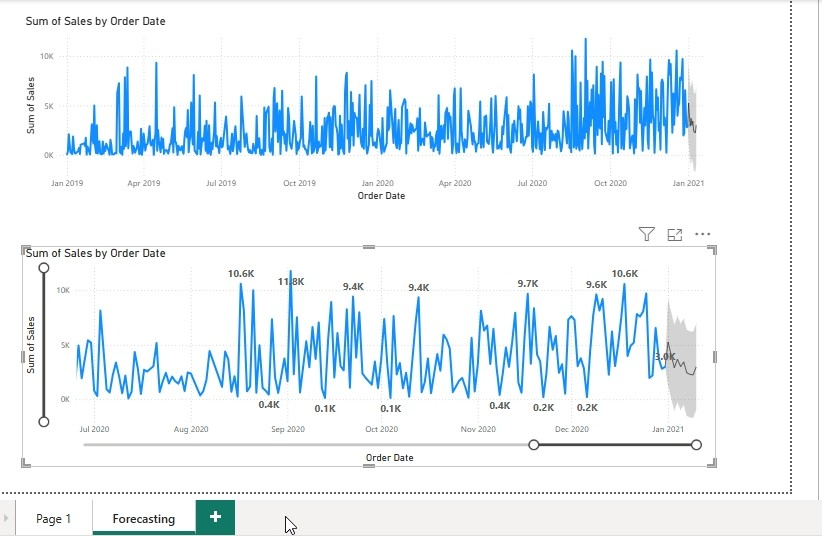

The page's visual inventory and layout, read from the dashboard file:
{"tool":"powerbi","page":{"name":"Page 2","canvas":[1280,720],"ordinal":1},"visuals":[{"type":"lineChart","fields":{"Y":["Sum(SuperStore_Sales_Dataset.Sales)"],"Category":["SuperStore_Sales_Dataset.Order Date"]},"box":[155.1,20.5,1015.6,278],"z":0},{"type":"lineChart","fields":{"Y":["Sum(SuperStore_Sales_Dataset.Sales)"],"Category":["SuperStore_Sales_Dataset.Order Date"]},"box":[155.1,360,1015.6,323.4],"z":1000}]}

Visuals, with their boxes on the page's 1280x720 design canvas (x1, y1, x2, y2). These are canvas units, not pixel positions in the 822x536 screenshot, which may show the page scaled, cropped or inside an application window:
lineChart - Sum(SuperStore_Sales_Dataset.Sales) x SuperStore_Sales_Dataset.Order Date: (155, 20, 1171, 298)
lineChart - Sum(SuperStore_Sales_Dataset.Sales) x SuperStore_Sales_Dataset.Order Date: (155, 360, 1171, 683)
